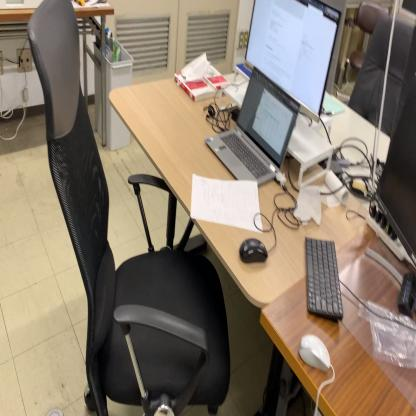chair: (26, 0, 232, 416)
